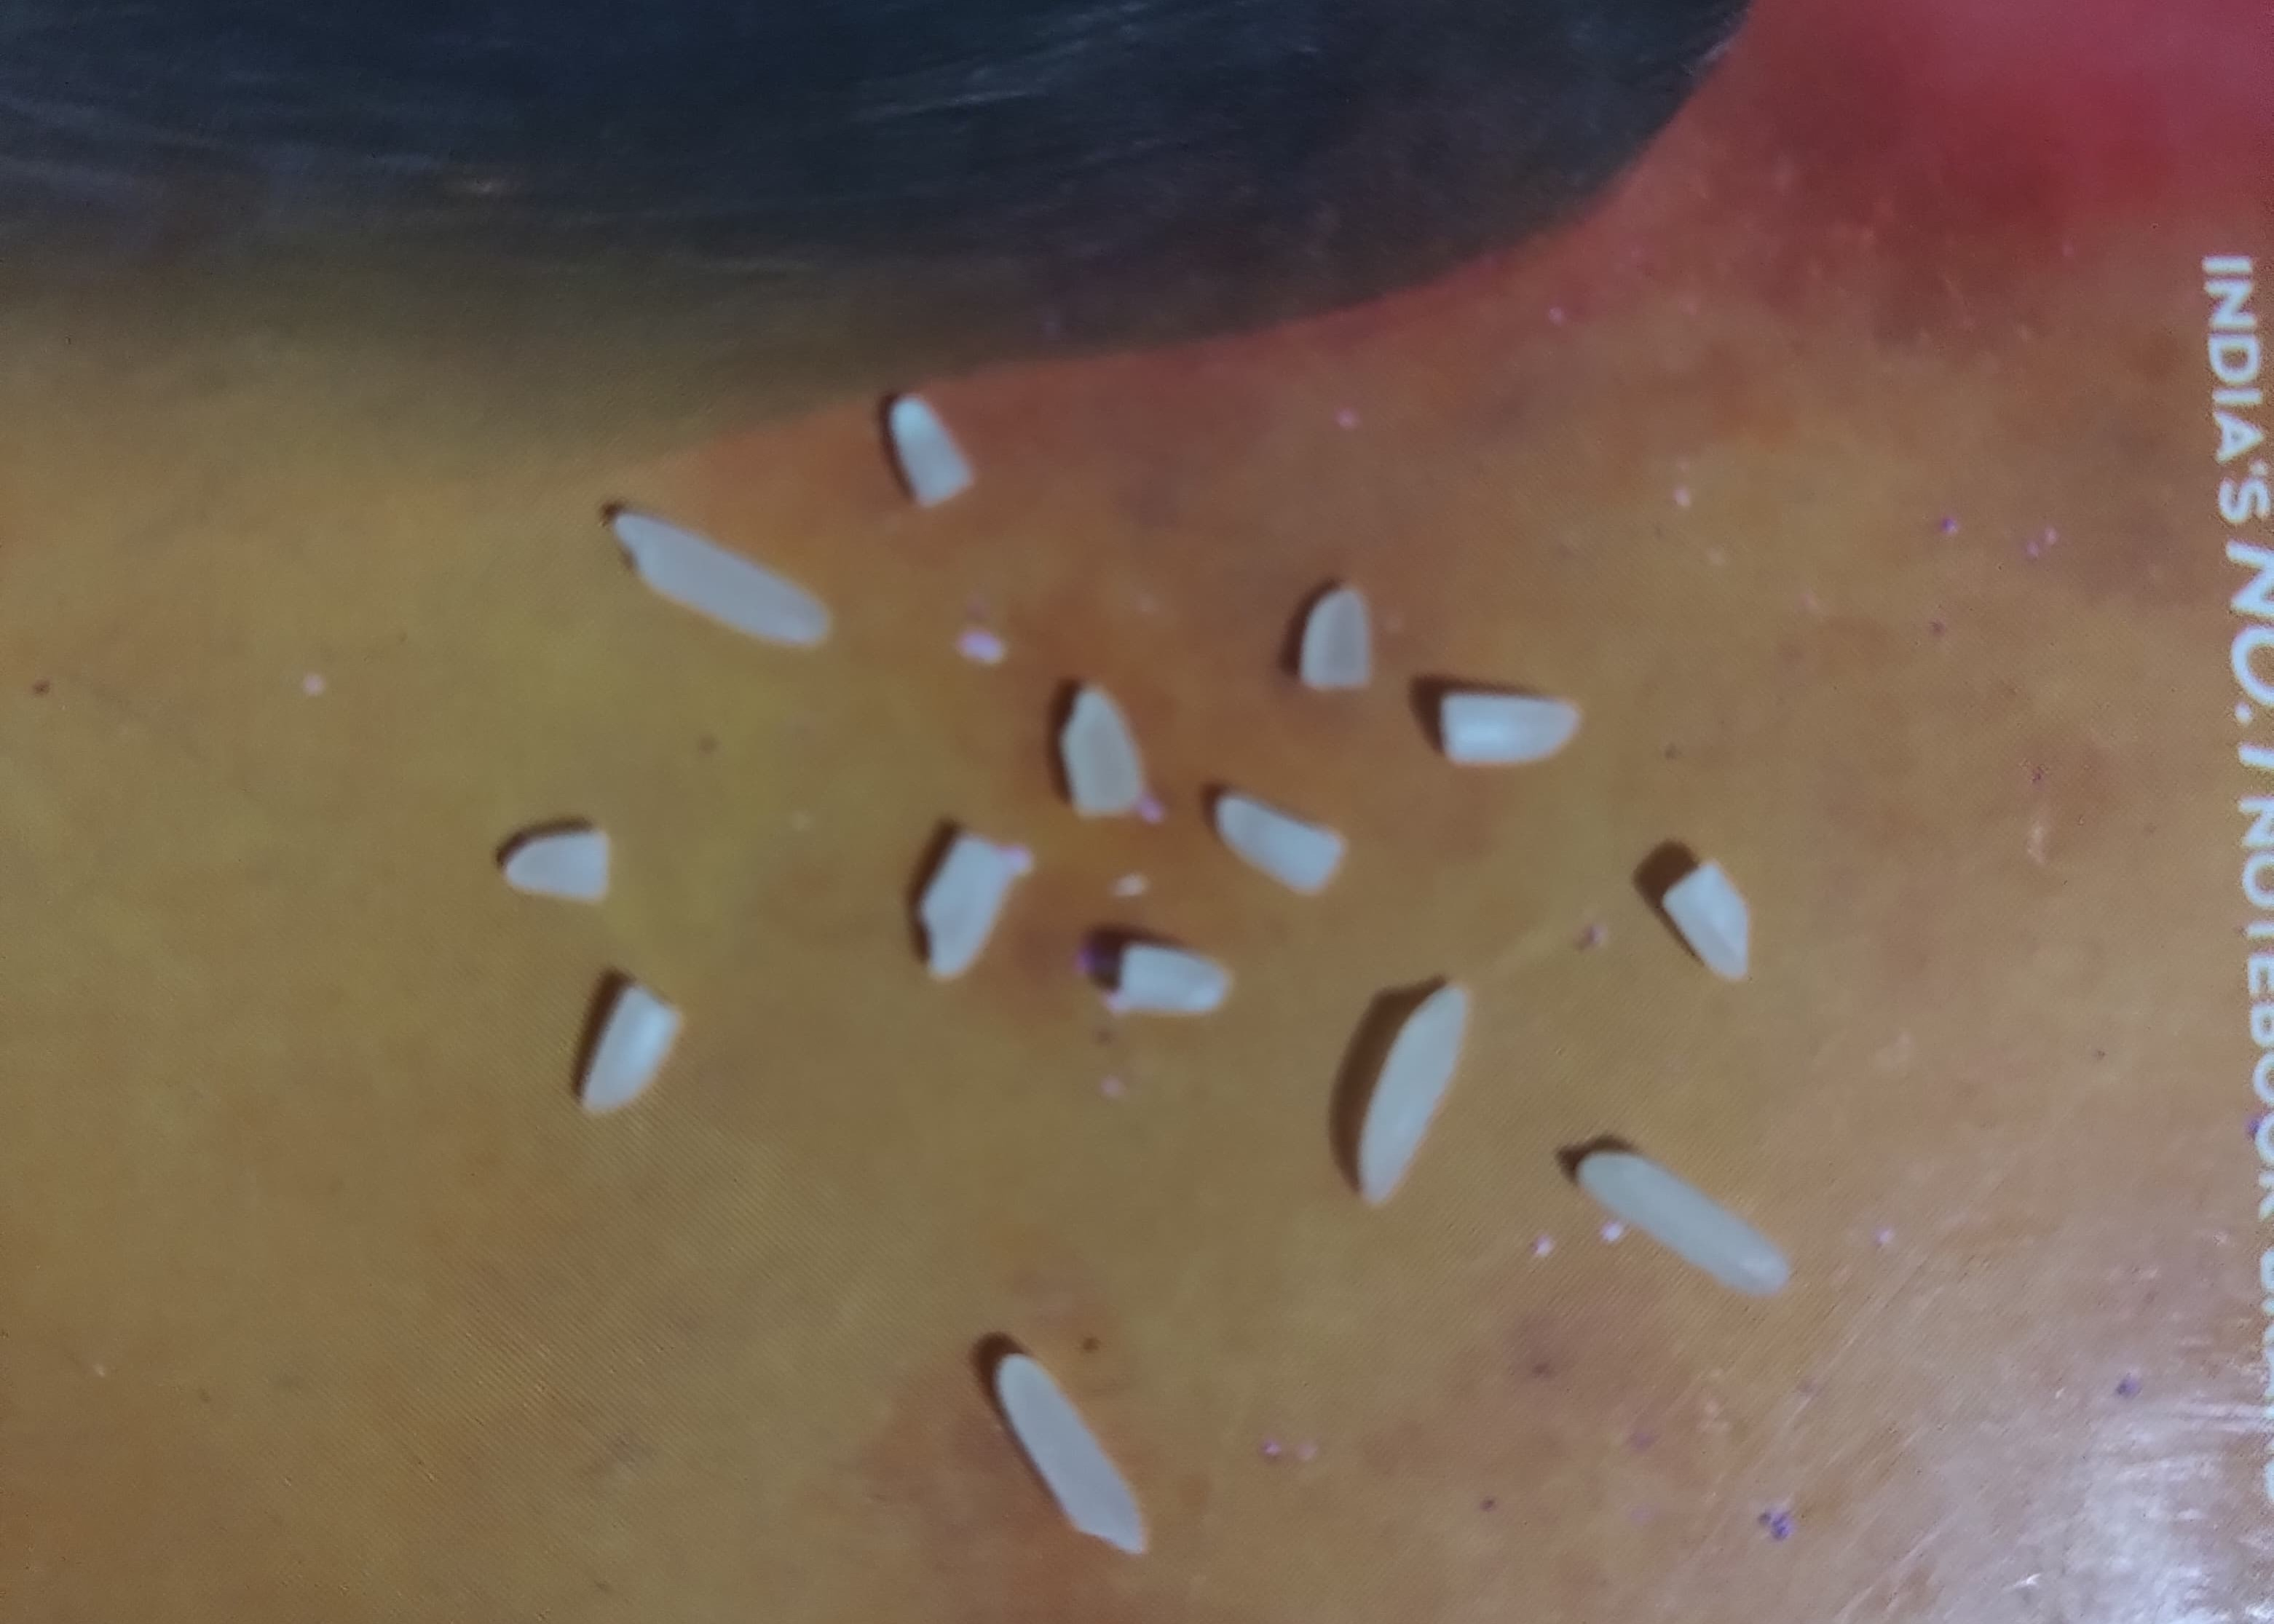broken_grain: (1201, 774, 1373, 912), (901, 819, 1019, 1000), (1423, 662, 1590, 785), (1647, 847, 1766, 997), (567, 971, 690, 1117), (1049, 666, 1152, 834), (876, 384, 994, 520), (1102, 926, 1235, 1036), (1285, 570, 1390, 698), (497, 817, 617, 909)
complete_grain: (1574, 1117, 1810, 1338), (589, 489, 856, 680), (975, 1349, 1174, 1577), (1342, 967, 1485, 1221)
